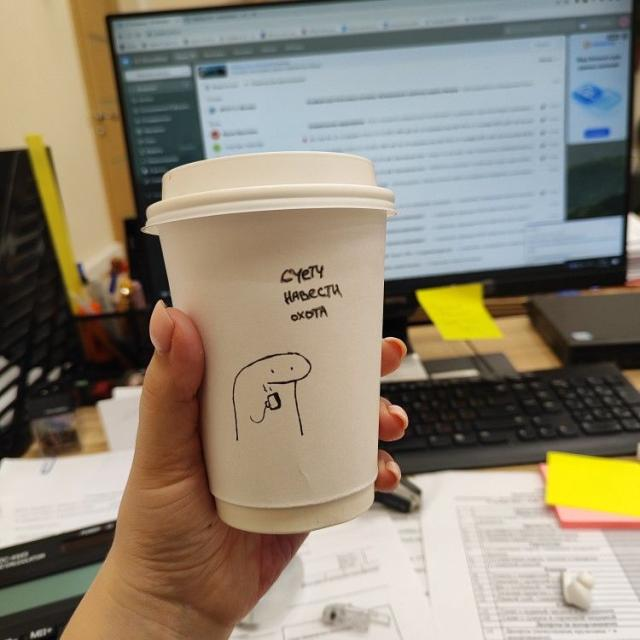paper cup: (148, 151, 396, 533)
